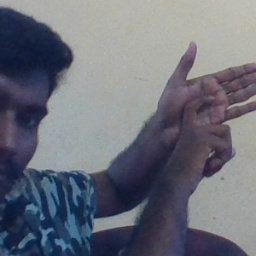R: (147, 38, 256, 187)
